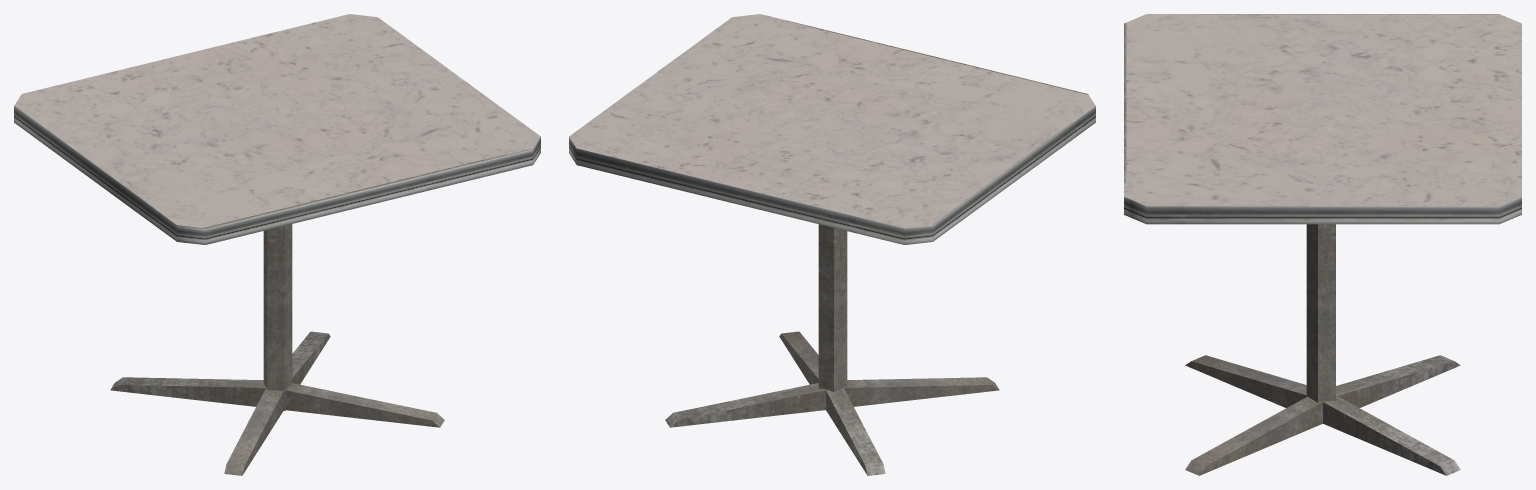
The model's file is Table.dae.
The picture shows the model from 3 angles, left to right: view 1: azimuth 30°, elevation 25°; view 2: azimuth 150°, elevation 25°; view 3: azimuth 270°, elevation 25°; orthographic projection. The views are drawn at different scales.
Parts seen in each view (by area): view 1: Table; view 2: Table; view 3: Table.
Boxes of the visible parts, x1,y1,x2,y2 form: Table: (14, 14, 540, 475); Table: (569, 14, 1095, 475); Table: (1124, 14, 1521, 475).
Bounding box in the file's own units: 1.14 × 0.9989 × 0.8533.
Materials: 1 (1 with a texture image).
